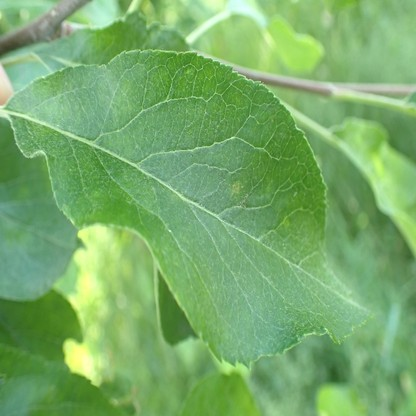scab: (112, 80, 136, 120), (45, 96, 67, 117), (231, 182, 239, 196)
